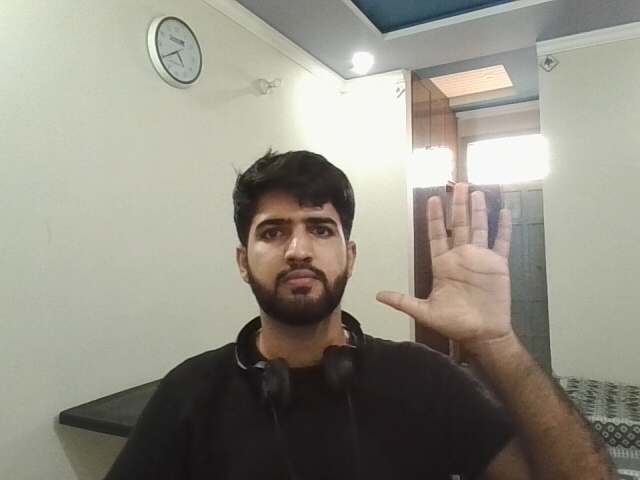Hello: (369, 173, 534, 346)
